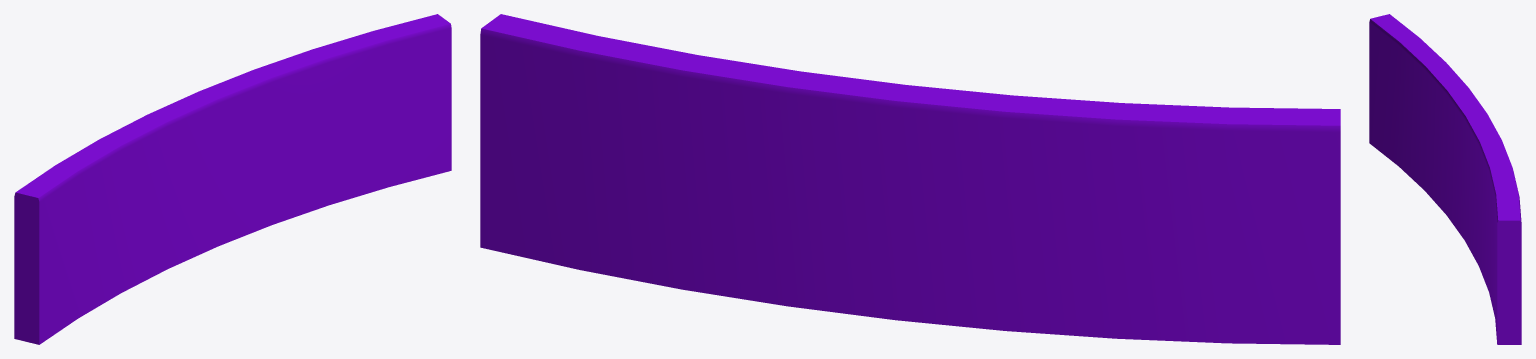
File: RampN_B_15Deg_Right_Inv.fbx
3 views of the same model, side by side, from view 1: azimuth 30°, elevation 25°; view 2: azimuth 150°, elevation 25°; view 3: azimuth 270°, elevation 25° (orthographic). The views are drawn at different scales.
Parts seen in each view (by area): view 1: RampN_B_15Deg_Right_Inv; view 2: RampN_B_15Deg_Right_Inv; view 3: RampN_B_15Deg_Right_Inv.
Boxes of the visible parts, <box> form: RampN_B_15Deg_Right_Inv: <box>14,14,451,344</box>; RampN_B_15Deg_Right_Inv: <box>480,14,1340,344</box>; RampN_B_15Deg_Right_Inv: <box>1369,14,1521,344</box>.
Size of the model in its own units: 10.38 by 2.91 by 3.23.
